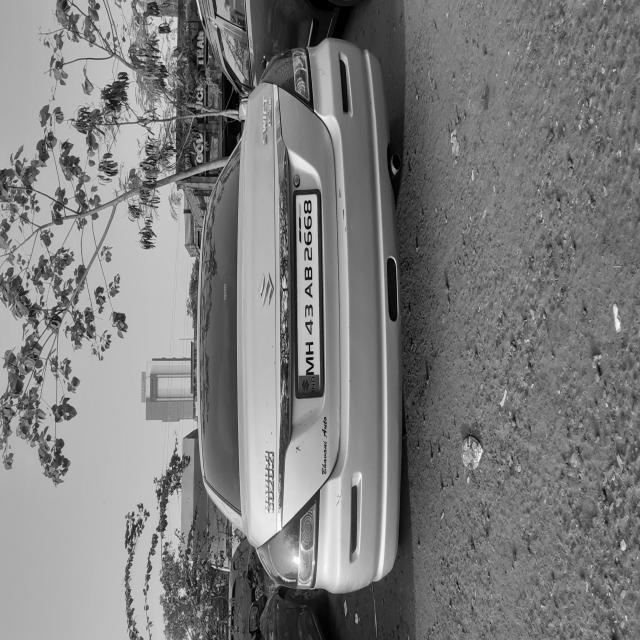car: (16, 395, 302, 640)
license-plate: (117, 608, 219, 640)
